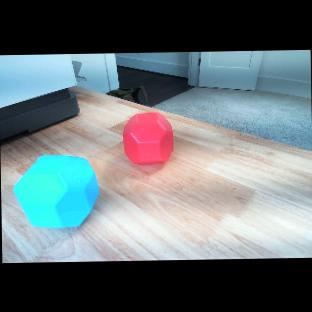V5_BLUE: (12, 154, 101, 229)
V5_RED: (122, 112, 172, 166)
